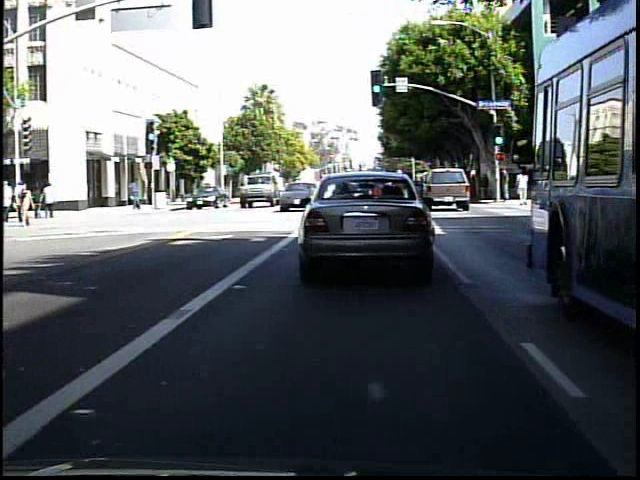person: (17, 182, 37, 229), (23, 180, 40, 224), (42, 180, 60, 220), (496, 165, 513, 207), (128, 175, 146, 213), (4, 181, 18, 226), (33, 183, 47, 219), (480, 169, 492, 202)
